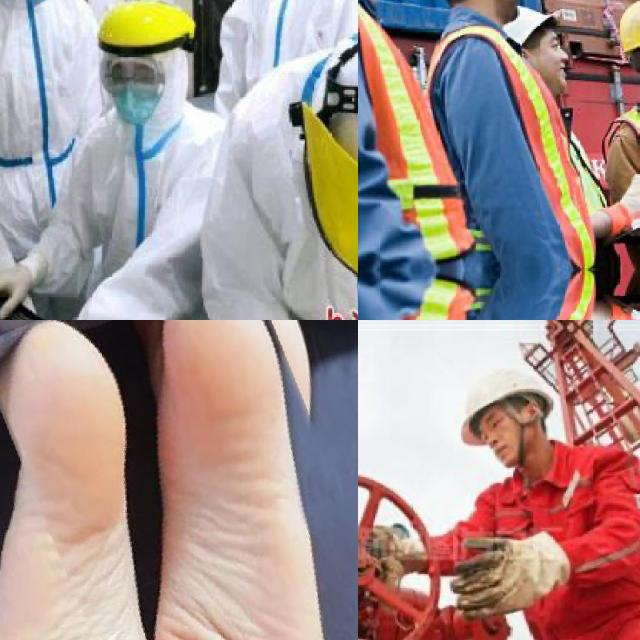Barefoots: (154, 320, 329, 640), (0, 320, 157, 640)
No_Ear-Protection: (527, 402, 539, 422)
No_Glasses: (478, 409, 508, 441)
face_mask: (112, 58, 164, 124)
face_nomask: (531, 51, 568, 98), (488, 420, 519, 468)
glasses: (94, 48, 174, 99)
hand_glove: (452, 532, 570, 615), (0, 268, 32, 315)
head_helmet: (461, 370, 553, 445), (98, 0, 194, 51), (619, 0, 640, 52)
person: (67, 0, 232, 320), (0, 0, 115, 275), (220, 0, 358, 76)
